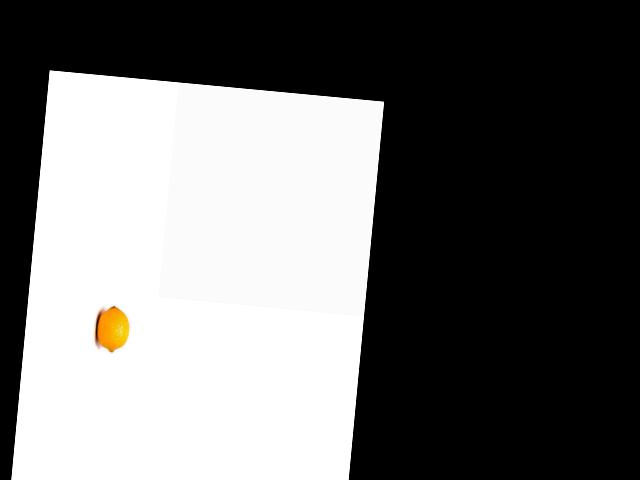lemon: (89, 304, 132, 357)
